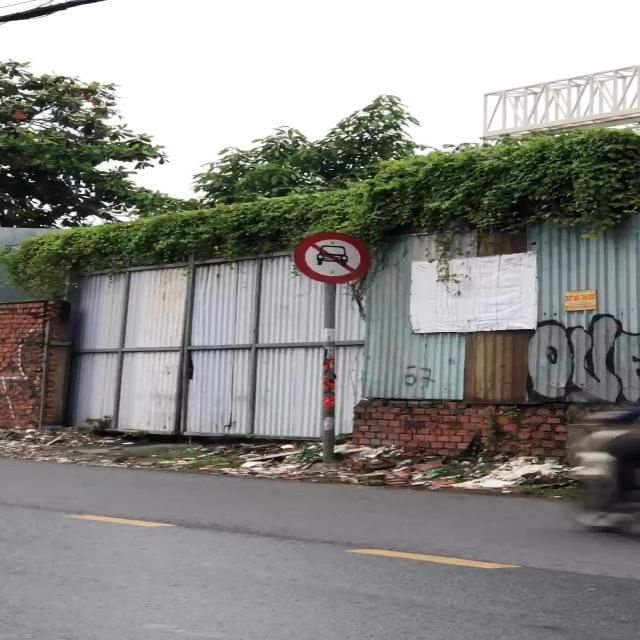Bien bao cam xe oto: (288, 228, 381, 284)
